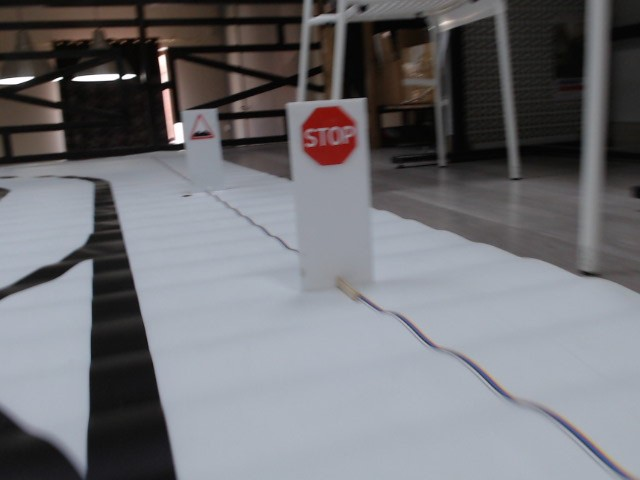Nerov: (190, 112, 213, 141)
Stop: (300, 105, 358, 165)
